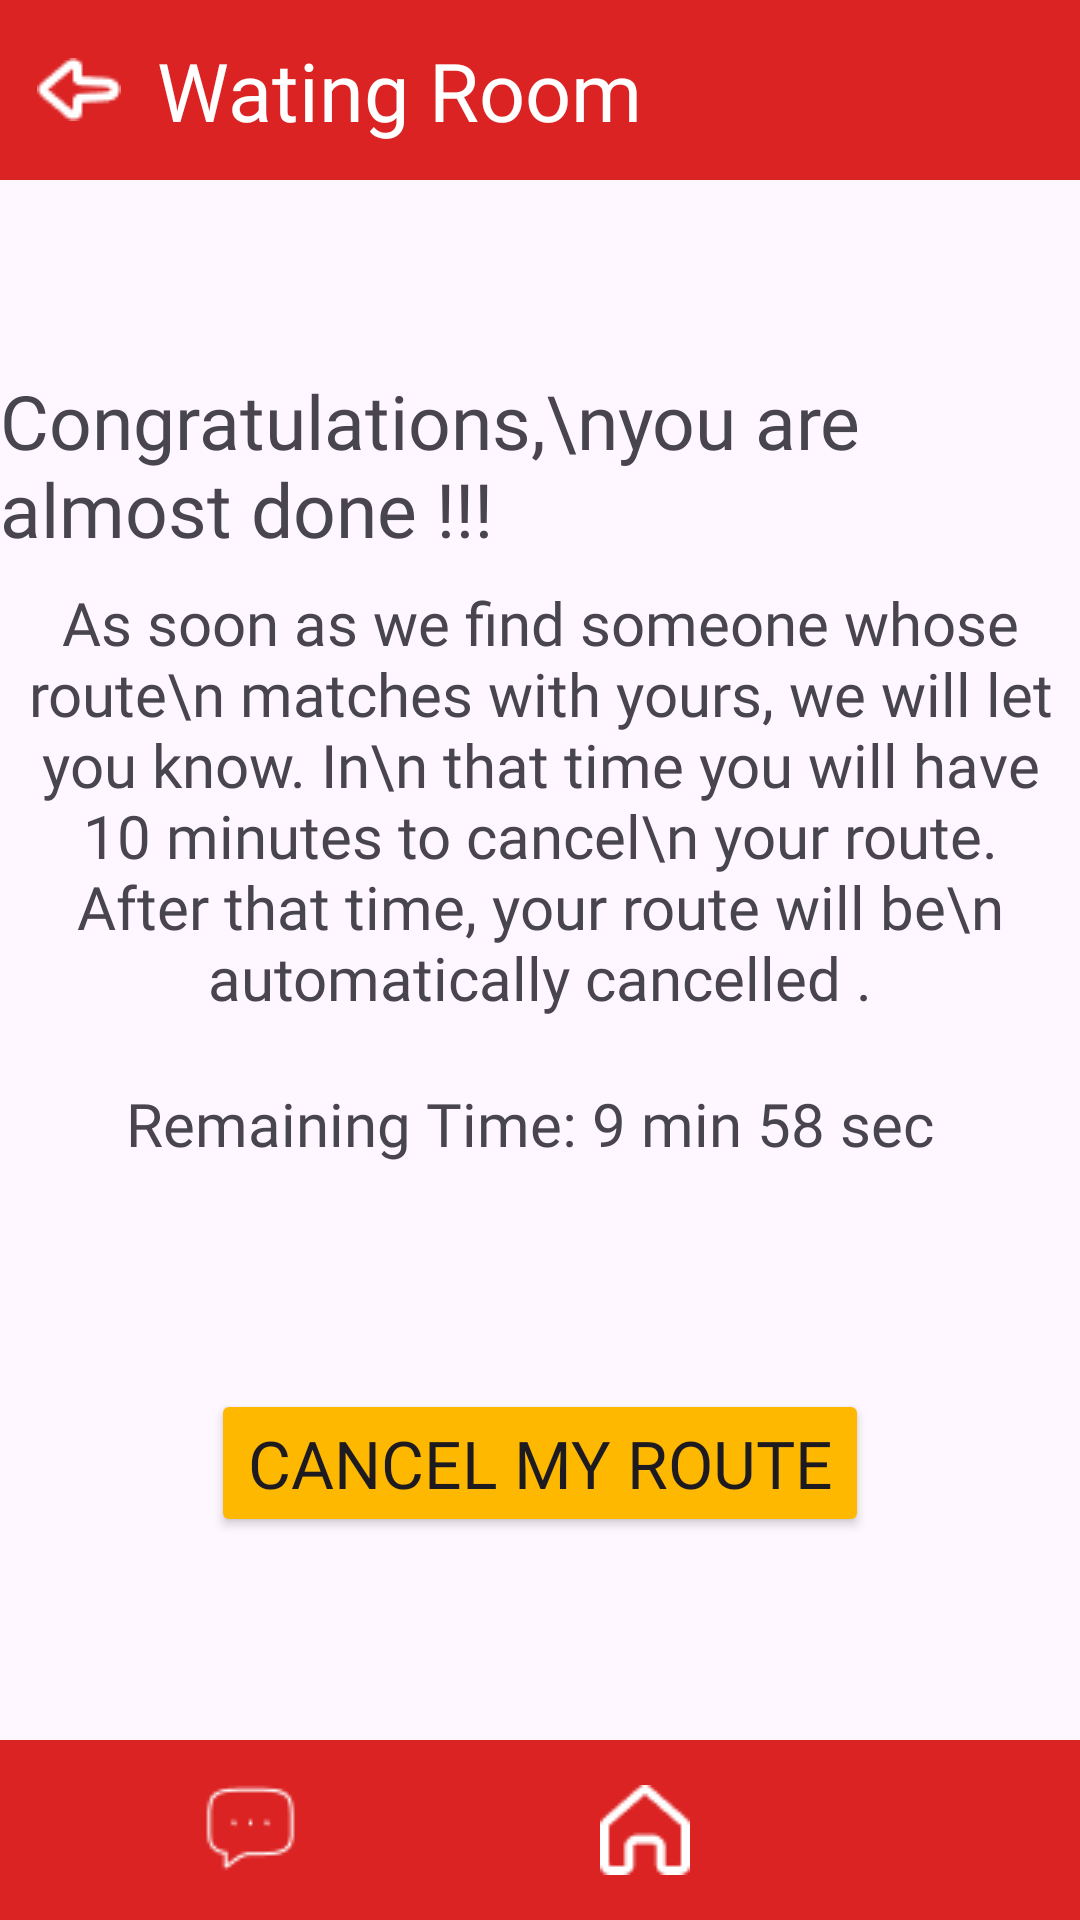

Where to tap for icons on this 1080w x 1920h app screen, as point (x, y):
chat: point (250, 1828)
